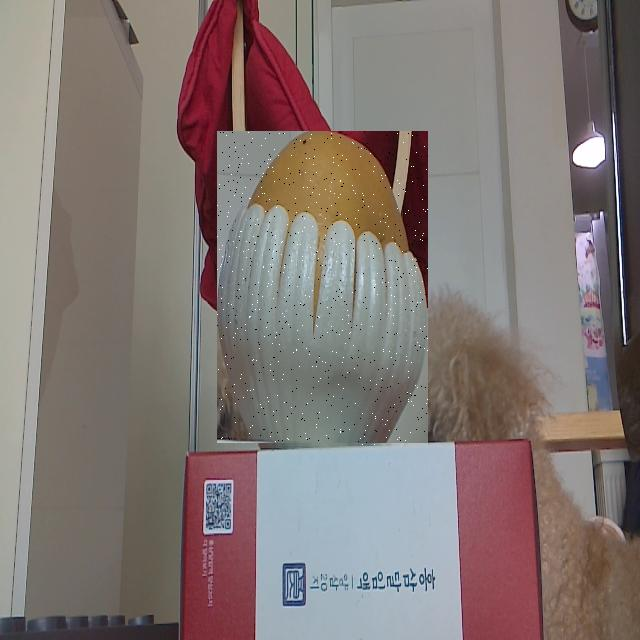pear: (217, 132, 428, 446)
